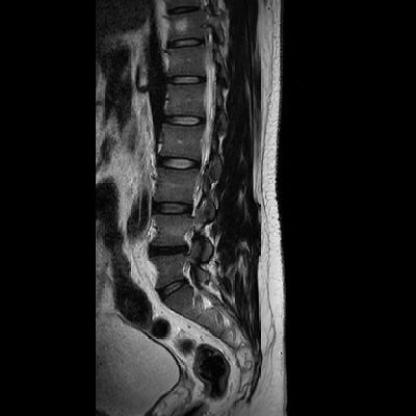Disc Bulgerotation: (148, 239, 188, 261)
